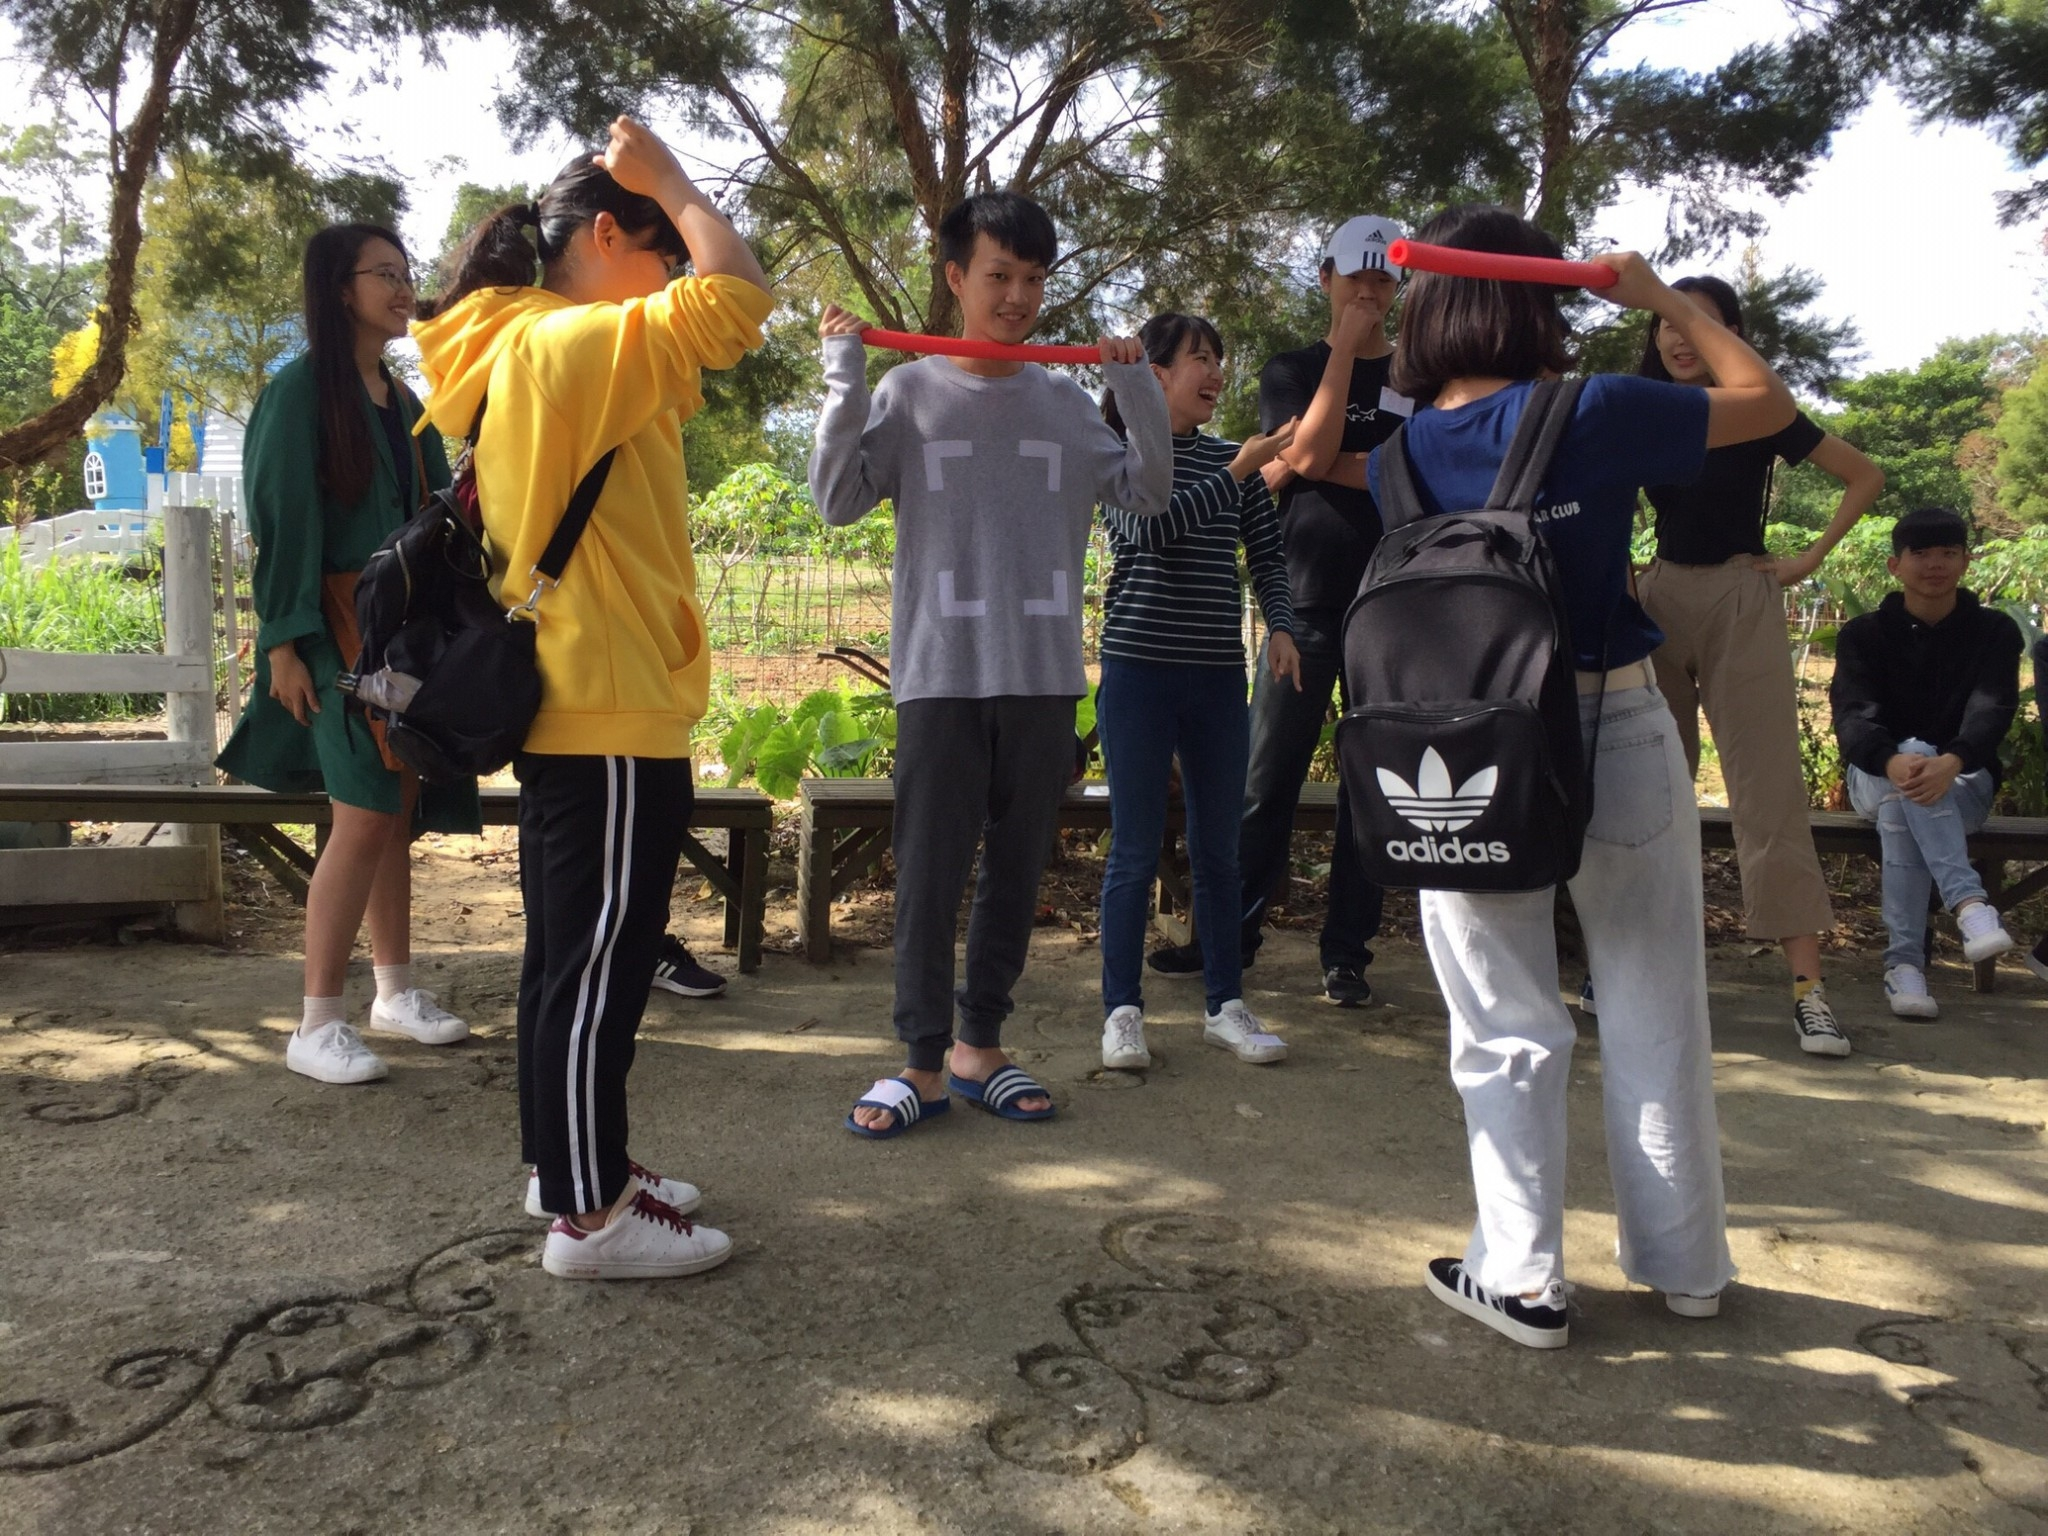people: (1413, 222, 1734, 1331), (452, 181, 743, 1275), (854, 205, 1093, 1134), (1613, 287, 1854, 1072), (252, 240, 472, 1078), (1102, 319, 1284, 1084), (1263, 216, 1407, 1022), (1822, 490, 1996, 996)
